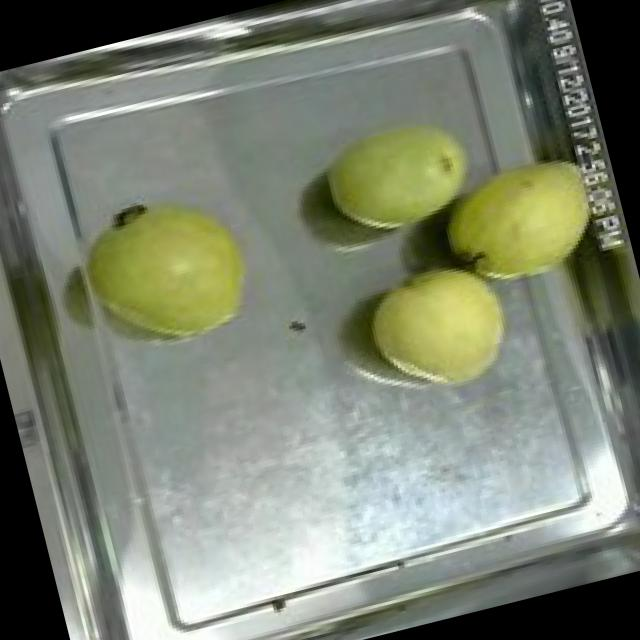Fruit: (72, 170, 276, 368), (423, 134, 623, 306), (349, 242, 532, 413), (306, 92, 494, 250)
